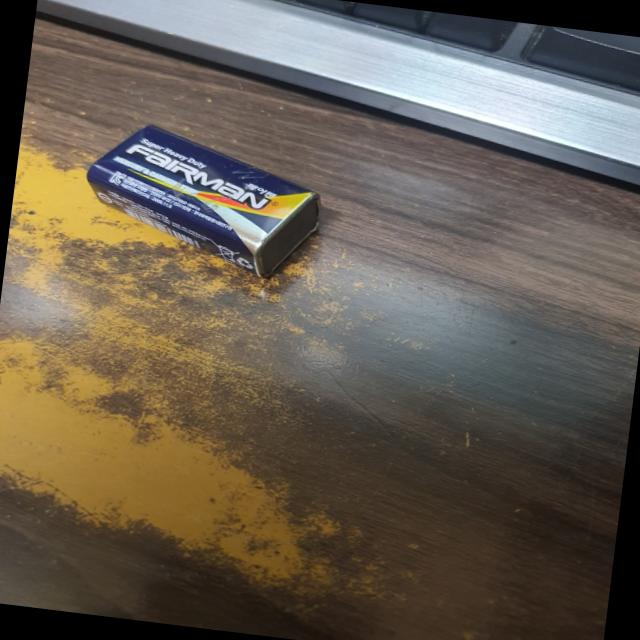battery-etc-etc: (72, 113, 344, 281)
